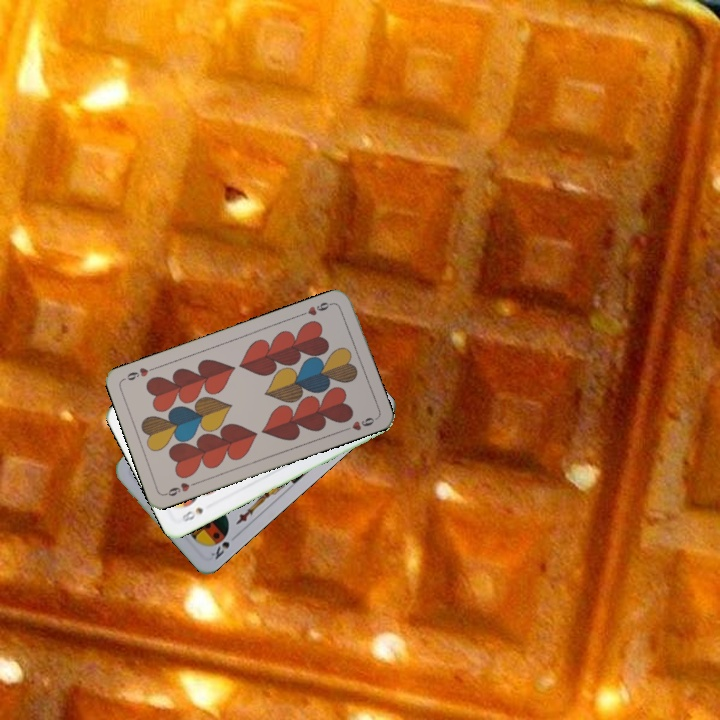H9: (161, 478, 200, 499), (297, 298, 336, 318)
S8: (178, 503, 206, 525)
SK: (207, 537, 232, 562)
